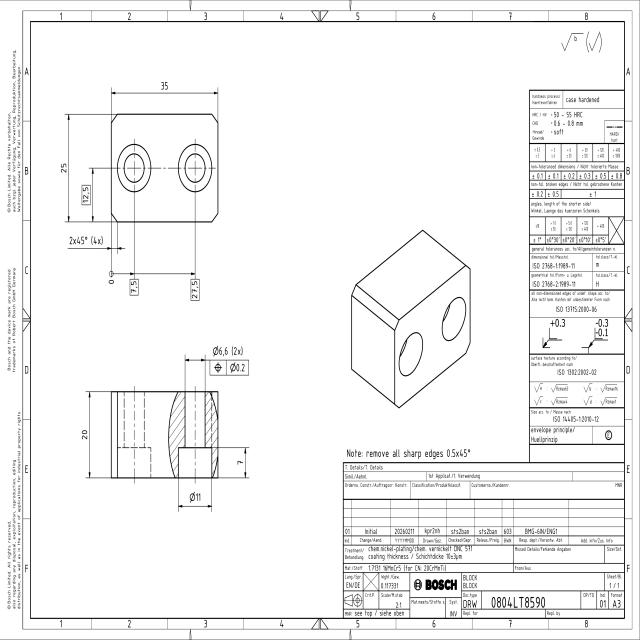dimension: (66, 233, 105, 247), (211, 344, 245, 358), (190, 279, 200, 302), (81, 184, 91, 206), (189, 490, 203, 503), (129, 279, 139, 296), (59, 160, 68, 176), (159, 80, 170, 92), (80, 428, 88, 442), (235, 459, 244, 468)
